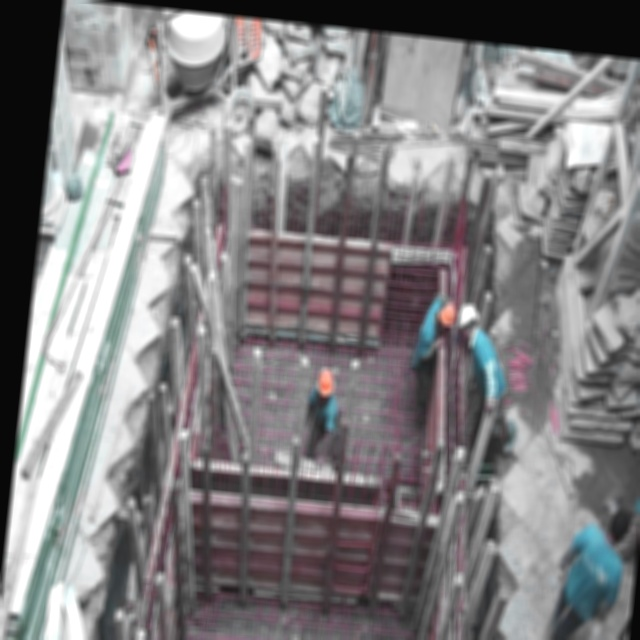Con_Casco: (457, 302, 479, 339), (316, 366, 336, 401), (436, 303, 458, 333)
